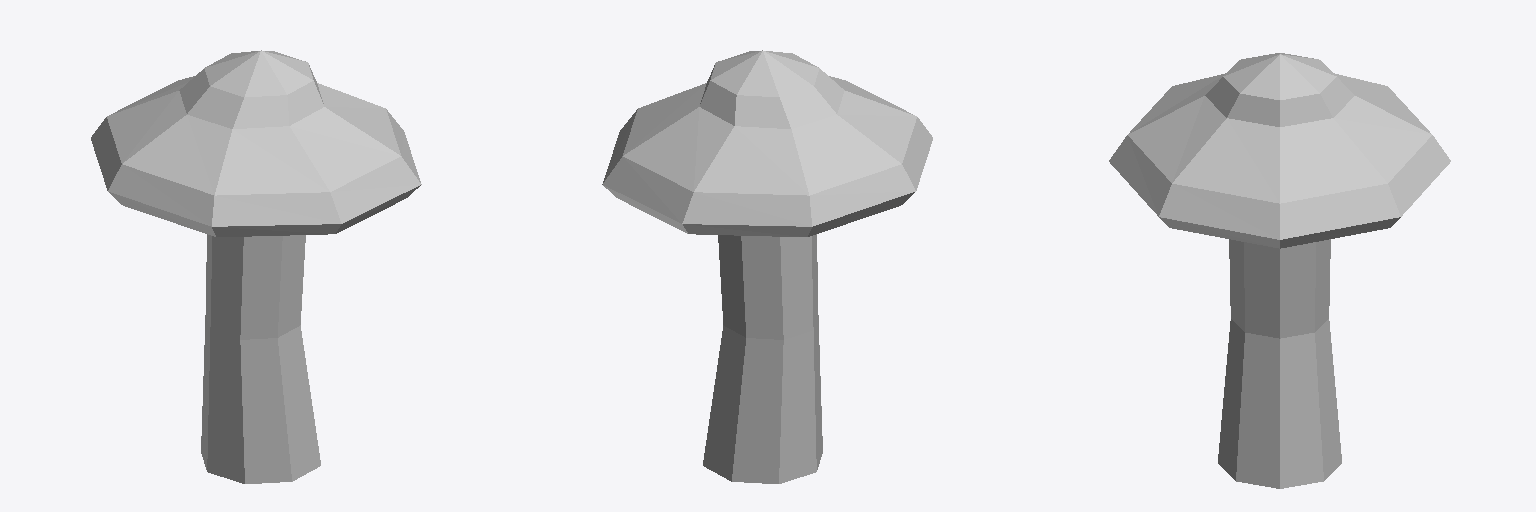
The model's file is shroom1.obj.
3 renders of one model, left to right at view 1: azimuth 30°, elevation 25°; view 2: azimuth 150°, elevation 25°; view 3: azimuth 270°, elevation 25°, orthographic.
Parts seen in each view (by area): view 1: Shroom2_Cylinder.002; view 2: Shroom2_Cylinder.002; view 3: Shroom2_Cylinder.002.
Boxes of the visible parts, x1,y1,x2,y2 form: Shroom2_Cylinder.002: [91, 50, 421, 483]; Shroom2_Cylinder.002: [602, 50, 932, 483]; Shroom2_Cylinder.002: [1109, 53, 1450, 488].
Bounding box in the file's own units: 0.3534 × 0.465 × 0.3537.